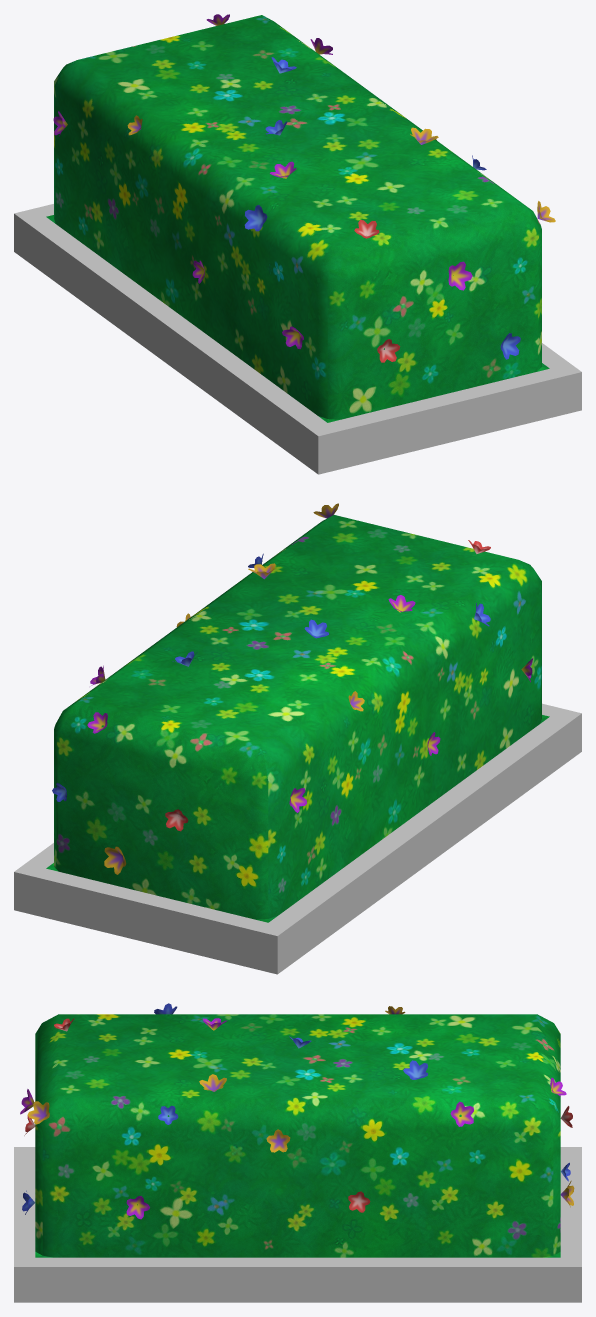
File: Plant04_a05.FBX
3 renders of one model, top to bottom at view 1: azimuth 30°, elevation 25°; view 2: azimuth 150°, elevation 25°; view 3: azimuth 270°, elevation 25°, orthographic. The views are drawn at different scales.
Parts seen in each view (by area): view 1: Plant04_a05; view 2: Plant04_a05; view 3: Plant04_a05.
Part boxes in pixels (x1,y1,x2,y2): Plant04_a05: (14,14,581,474); Plant04_a05: (14,503,581,974); Plant04_a05: (14,1003,581,1302).
Size of the model in its own units: 339 by 263 by 678.
